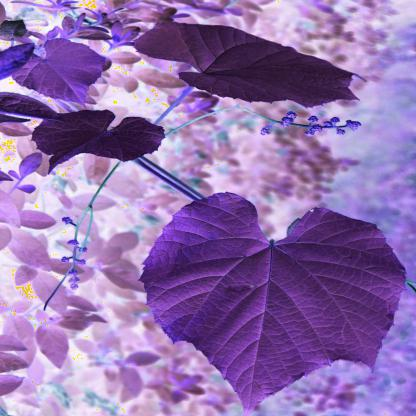grape leaf: (130, 195, 407, 410), (131, 12, 373, 111), (30, 104, 172, 178), (9, 33, 109, 107)
